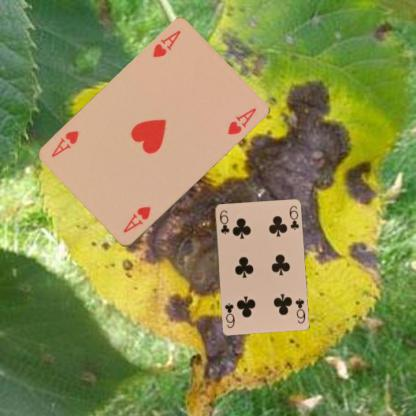6c: (292, 295, 307, 324), (216, 208, 231, 235)
Ah: (150, 28, 182, 60), (120, 204, 152, 235)
